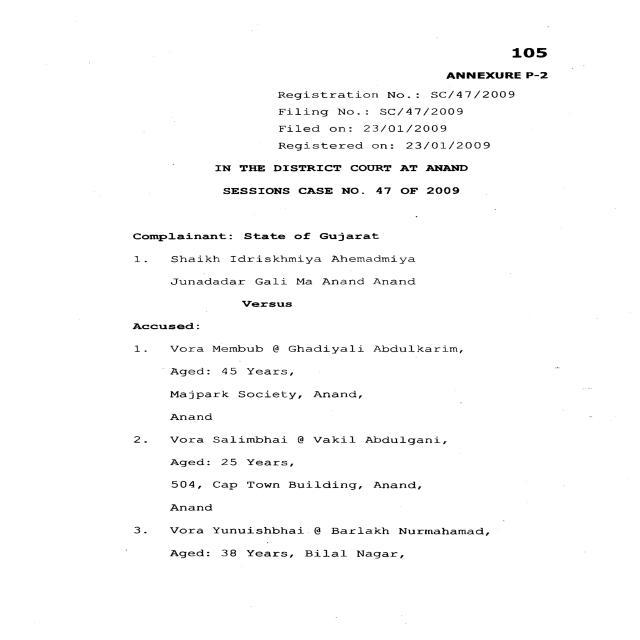page-number: (408, 0, 636, 66)
